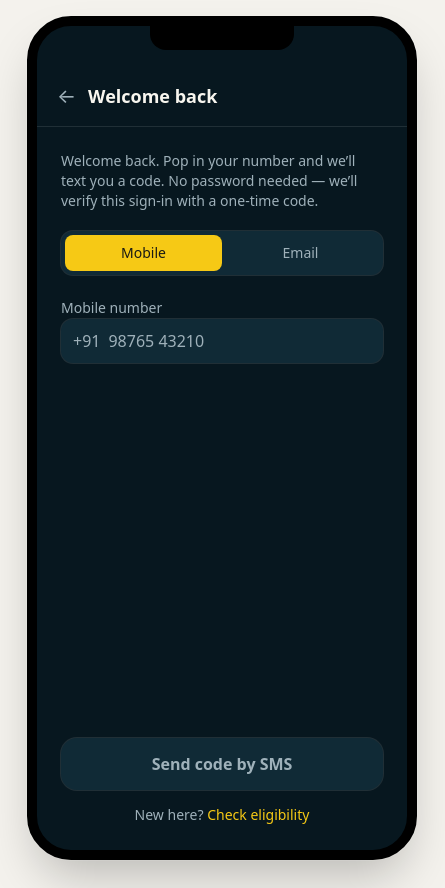
Scenario: SignIn › unknown contact → offers to create an account, sends no OTP
Type "9800000000" into the field with placeholder "98765 43210". click: (240, 341)
box: [108, 329, 371, 353]
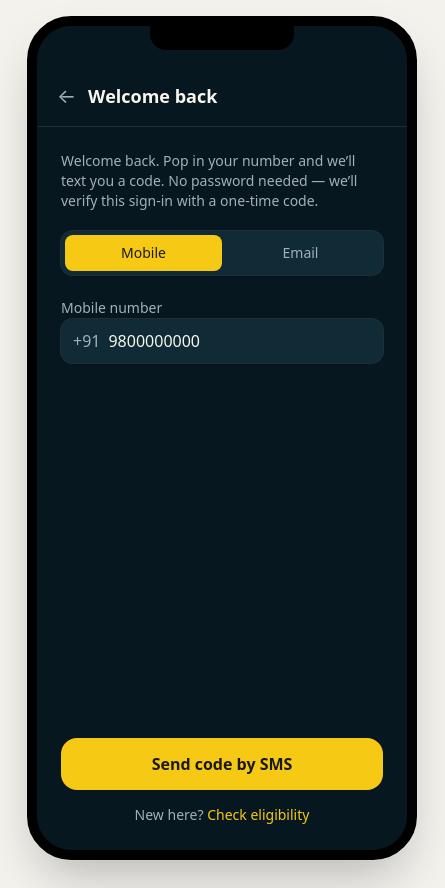
Click the button "Send code by SMS". click: (222, 764)
box: [61, 738, 383, 790]
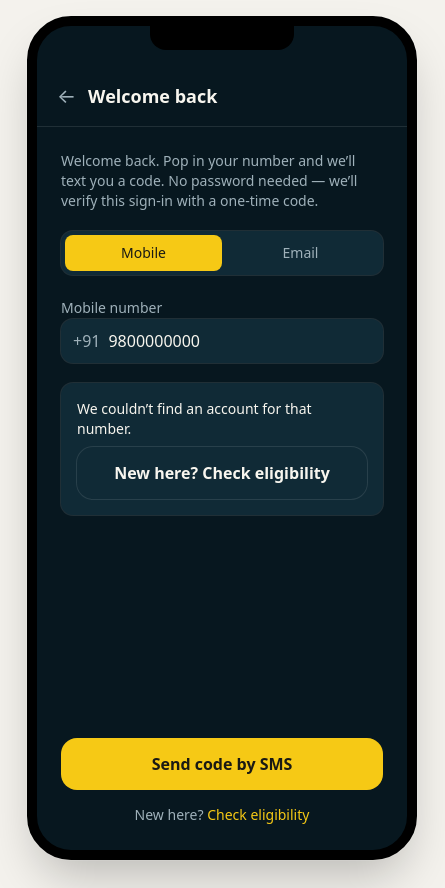
Result: the text "We couldn’t find an account for that number." is shown at [77, 399, 312, 438]
